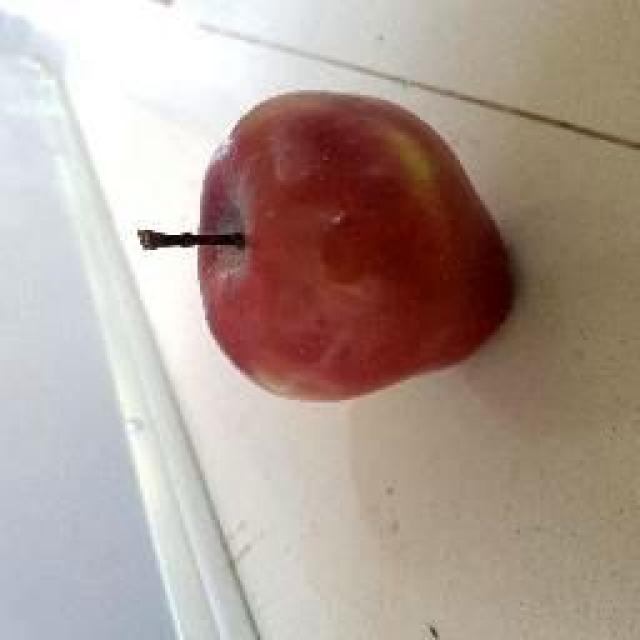Good_Apple: (138, 90, 515, 402)
